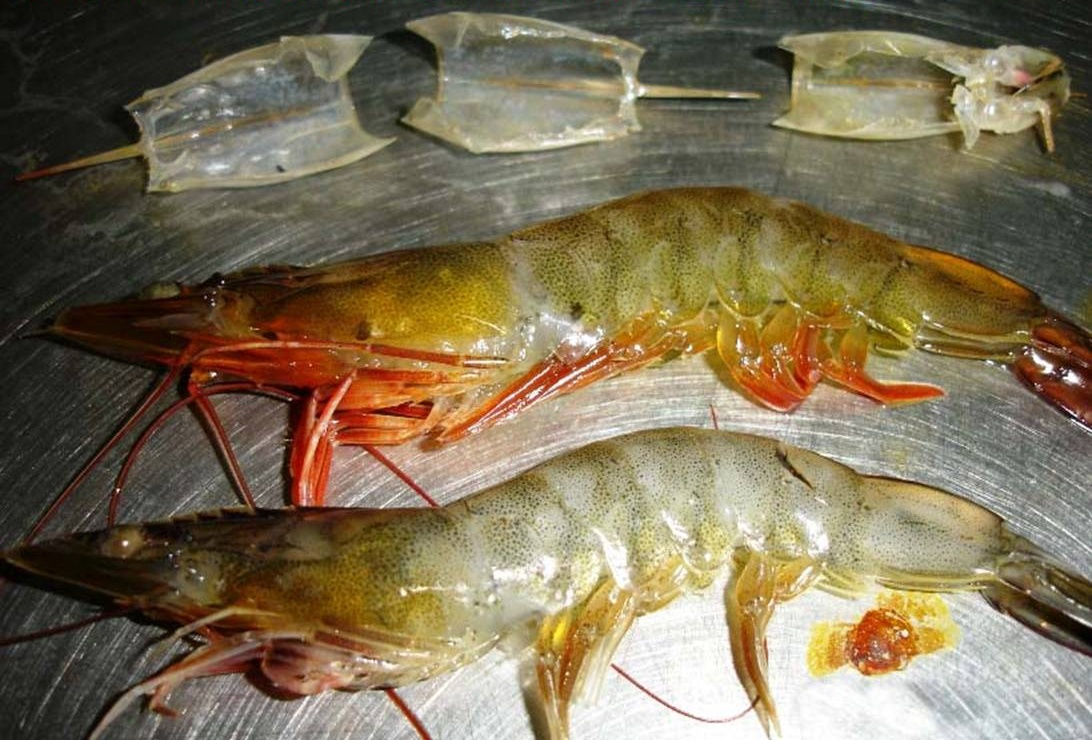White Prawn: (21, 428, 1085, 731), (80, 186, 1090, 424)
